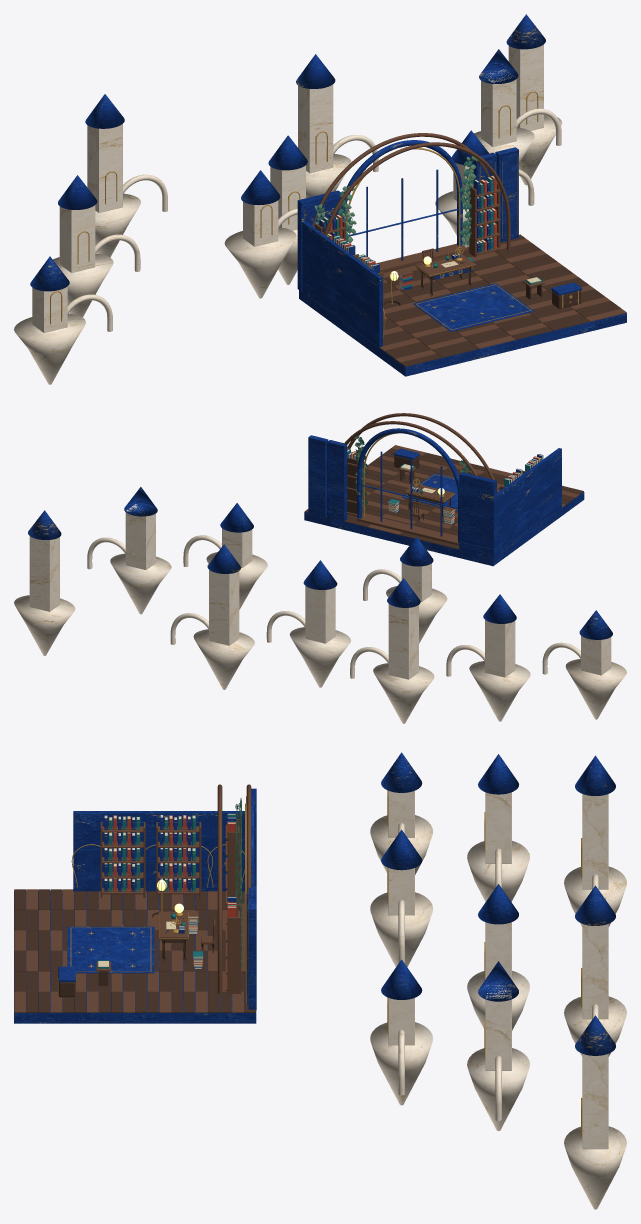
The model's file is attic-storybook.glb.
3 views of the same model, one above another, from view 1: azimuth 30°, elevation 25°; view 2: azimuth 150°, elevation 25°; view 3: azimuth 270°, elevation 25° (orthographic). The views are drawn at different scales.
Parts seen in each view (by area): view 1: Attic_Atelier_Atelier_stone, Attic_Atelier_Atelier_navy, Attic_Atelier_Atelier_wood, Attic_Atelier_Atelier_wood2, Attic_Atelier_Atelier_gold, Attic_Atelier_Atelier_blue, Attic_Atelier_Atelier_leaf, Attic_Atelier_Atelier_coat, Attic_Atelier_Atelier_teal, Attic_Atelier_Atelier_leaf2, DeskPuzzle_Atelier_wood2; view 2: Attic_Atelier_Atelier_stone, Attic_Atelier_Atelier_navy, Attic_Atelier_Atelier_wood2, Attic_Atelier_Atelier_wood, Attic_Atelier_Atelier_paper; view 3: Attic_Atelier_Atelier_stone, Attic_Atelier_Atelier_navy, Attic_Atelier_Atelier_wood2, Attic_Atelier_Atelier_wood, Attic_Atelier_Atelier_blue, Attic_Atelier_Atelier_gold, Attic_Atelier_Atelier_teal, Attic_Atelier_Atelier_coat, Attic_Atelier_Atelier_paper, DeskPuzzle_Atelier_wood2.
Part boxes in pixels (box(x1,y1,x2,y2)): Attic_Atelier_Atelier_stone: box(14, 44, 562, 384); Attic_Atelier_Atelier_navy: box(30, 14, 626, 376); Attic_Atelier_Atelier_wood: box(318, 186, 620, 366); Attic_Atelier_Atelier_wood2: box(312, 133, 626, 362); Attic_Atelier_Atelier_gold: box(50, 91, 578, 339); Attic_Atelier_Atelier_blue: box(304, 154, 516, 239); Attic_Atelier_Atelier_leaf: box(314, 158, 473, 245); Attic_Atelier_Atelier_coat: box(327, 175, 496, 285); Attic_Atelier_Atelier_teal: box(322, 176, 493, 288); Attic_Atelier_Atelier_leaf2: box(314, 156, 478, 242); DeskPuzzle_Atelier_wood2: box(416, 252, 475, 277); Attic_Atelier_Atelier_stone: box(14, 504, 626, 723); Attic_Atelier_Atelier_navy: box(28, 428, 612, 639); Attic_Atelier_Atelier_wood2: box(344, 413, 579, 545); Attic_Atelier_Atelier_wood: box(304, 448, 583, 549); Attic_Atelier_Atelier_paper: box(347, 449, 542, 524); Attic_Atelier_Atelier_stone: box(370, 790, 626, 1209); Attic_Atelier_Atelier_navy: box(14, 752, 615, 1055); Attic_Atelier_Atelier_wood2: box(14, 784, 251, 1012); Attic_Atelier_Atelier_wood: box(14, 819, 255, 1012); Attic_Atelier_Atelier_blue: box(76, 849, 248, 1004); Attic_Atelier_Atelier_gold: box(57, 790, 582, 1137); Attic_Atelier_Atelier_teal: box(108, 813, 236, 966); Attic_Atelier_Atelier_coat: box(113, 815, 236, 986); Attic_Atelier_Atelier_paper: box(104, 814, 236, 968); DeskPuzzle_Atelier_wood2: box(159, 911, 188, 939).
Bounding box in the file's own units: 34 × 11.79 × 25.3.
14 materials, 5 textured.
